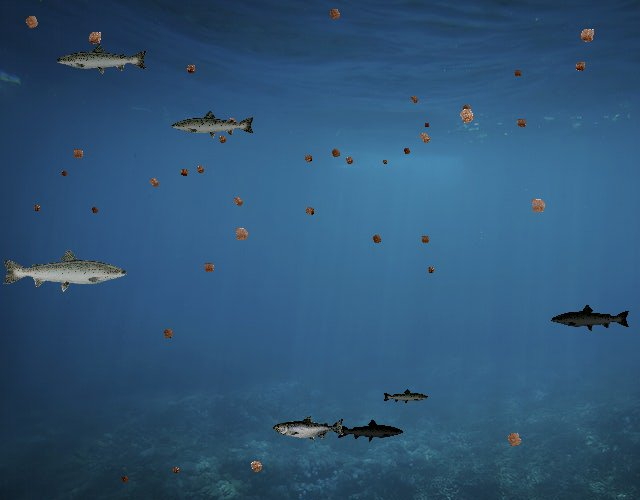Fish: (0, 247, 129, 293), (55, 42, 149, 76), (170, 109, 256, 140), (551, 303, 632, 332), (274, 416, 347, 442), (336, 418, 404, 442), (383, 389, 430, 406)
Pellet: (573, 21, 601, 49), (244, 454, 269, 479), (457, 100, 476, 119), (341, 152, 358, 169), (168, 463, 183, 478), (423, 263, 438, 277), (118, 472, 132, 486), (30, 201, 44, 215)
